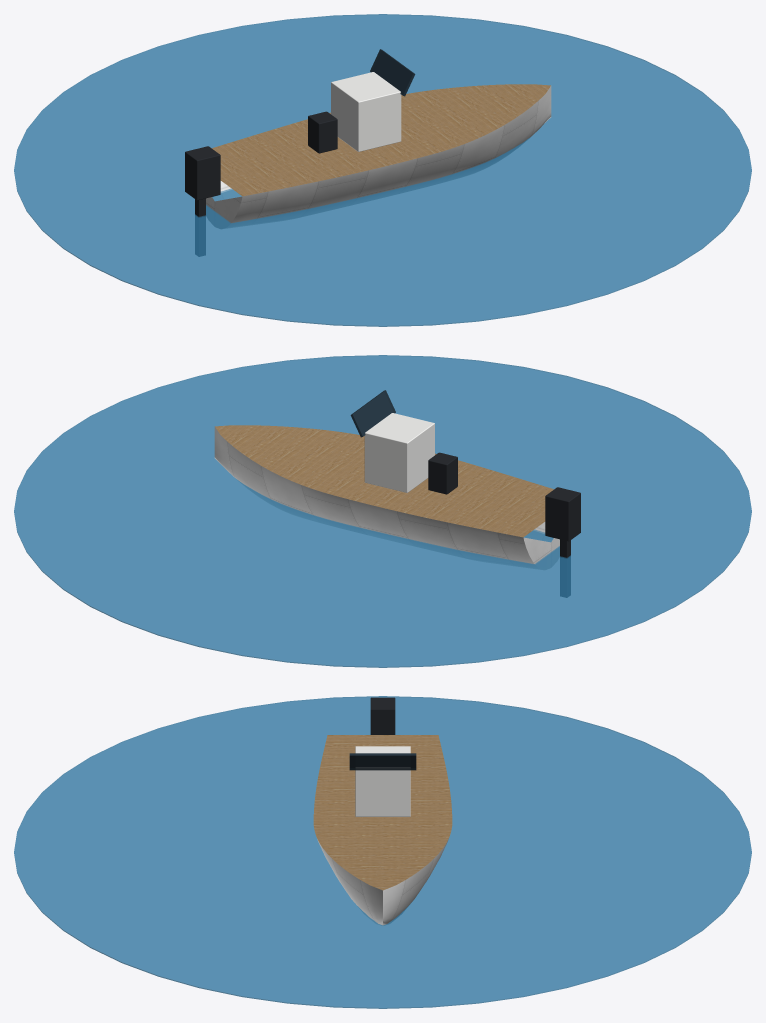
The model's file is a-realistic-motor-boat-91402-realistic.glb.
3 views of the same model, one above another, from view 1: azimuth 30°, elevation 25°; view 2: azimuth 150°, elevation 25°; view 3: azimuth 270°, elevation 25° (orthographic).
Parts seen in each view (by area): view 1: water, boat; view 2: water, boat; view 3: water, boat.
Boxes of the visible parts, x1,y1,x2,y2 form: water: (14, 14, 751, 326); boat: (185, 49, 551, 256); water: (14, 355, 751, 667); boat: (214, 390, 580, 597); water: (14, 696, 751, 1008); boat: (313, 697, 452, 925).
Size of the model in its own units: 13.3 by 2.9 by 13.3.
6 materials, 3 textured.
